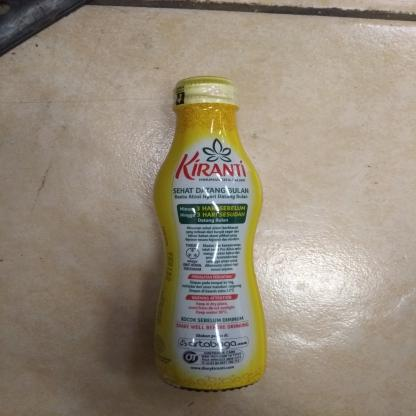keyboard: (146, 71, 270, 394)
